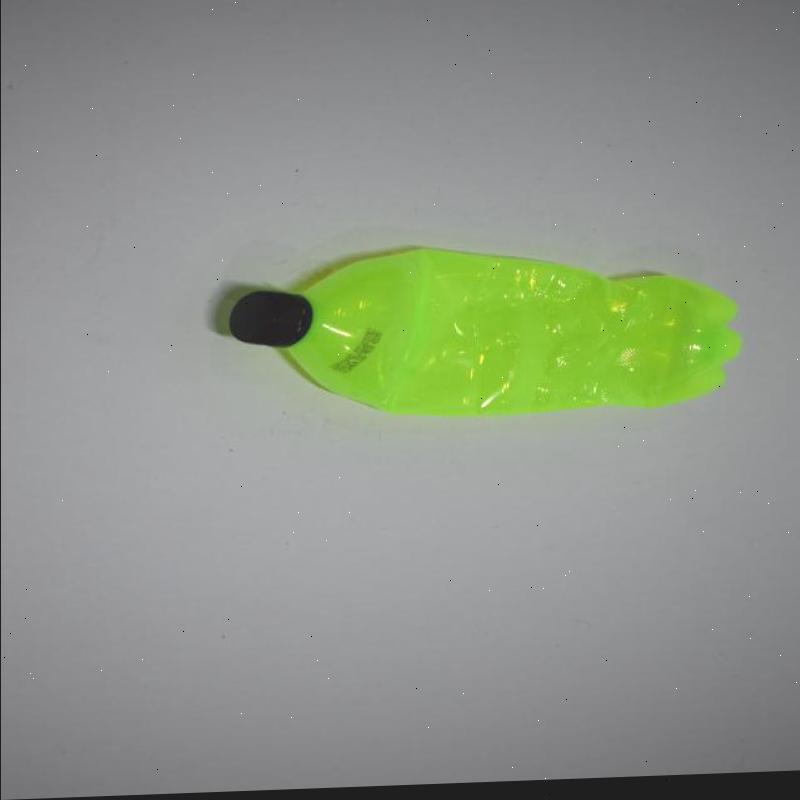botella: (234, 233, 754, 430)
